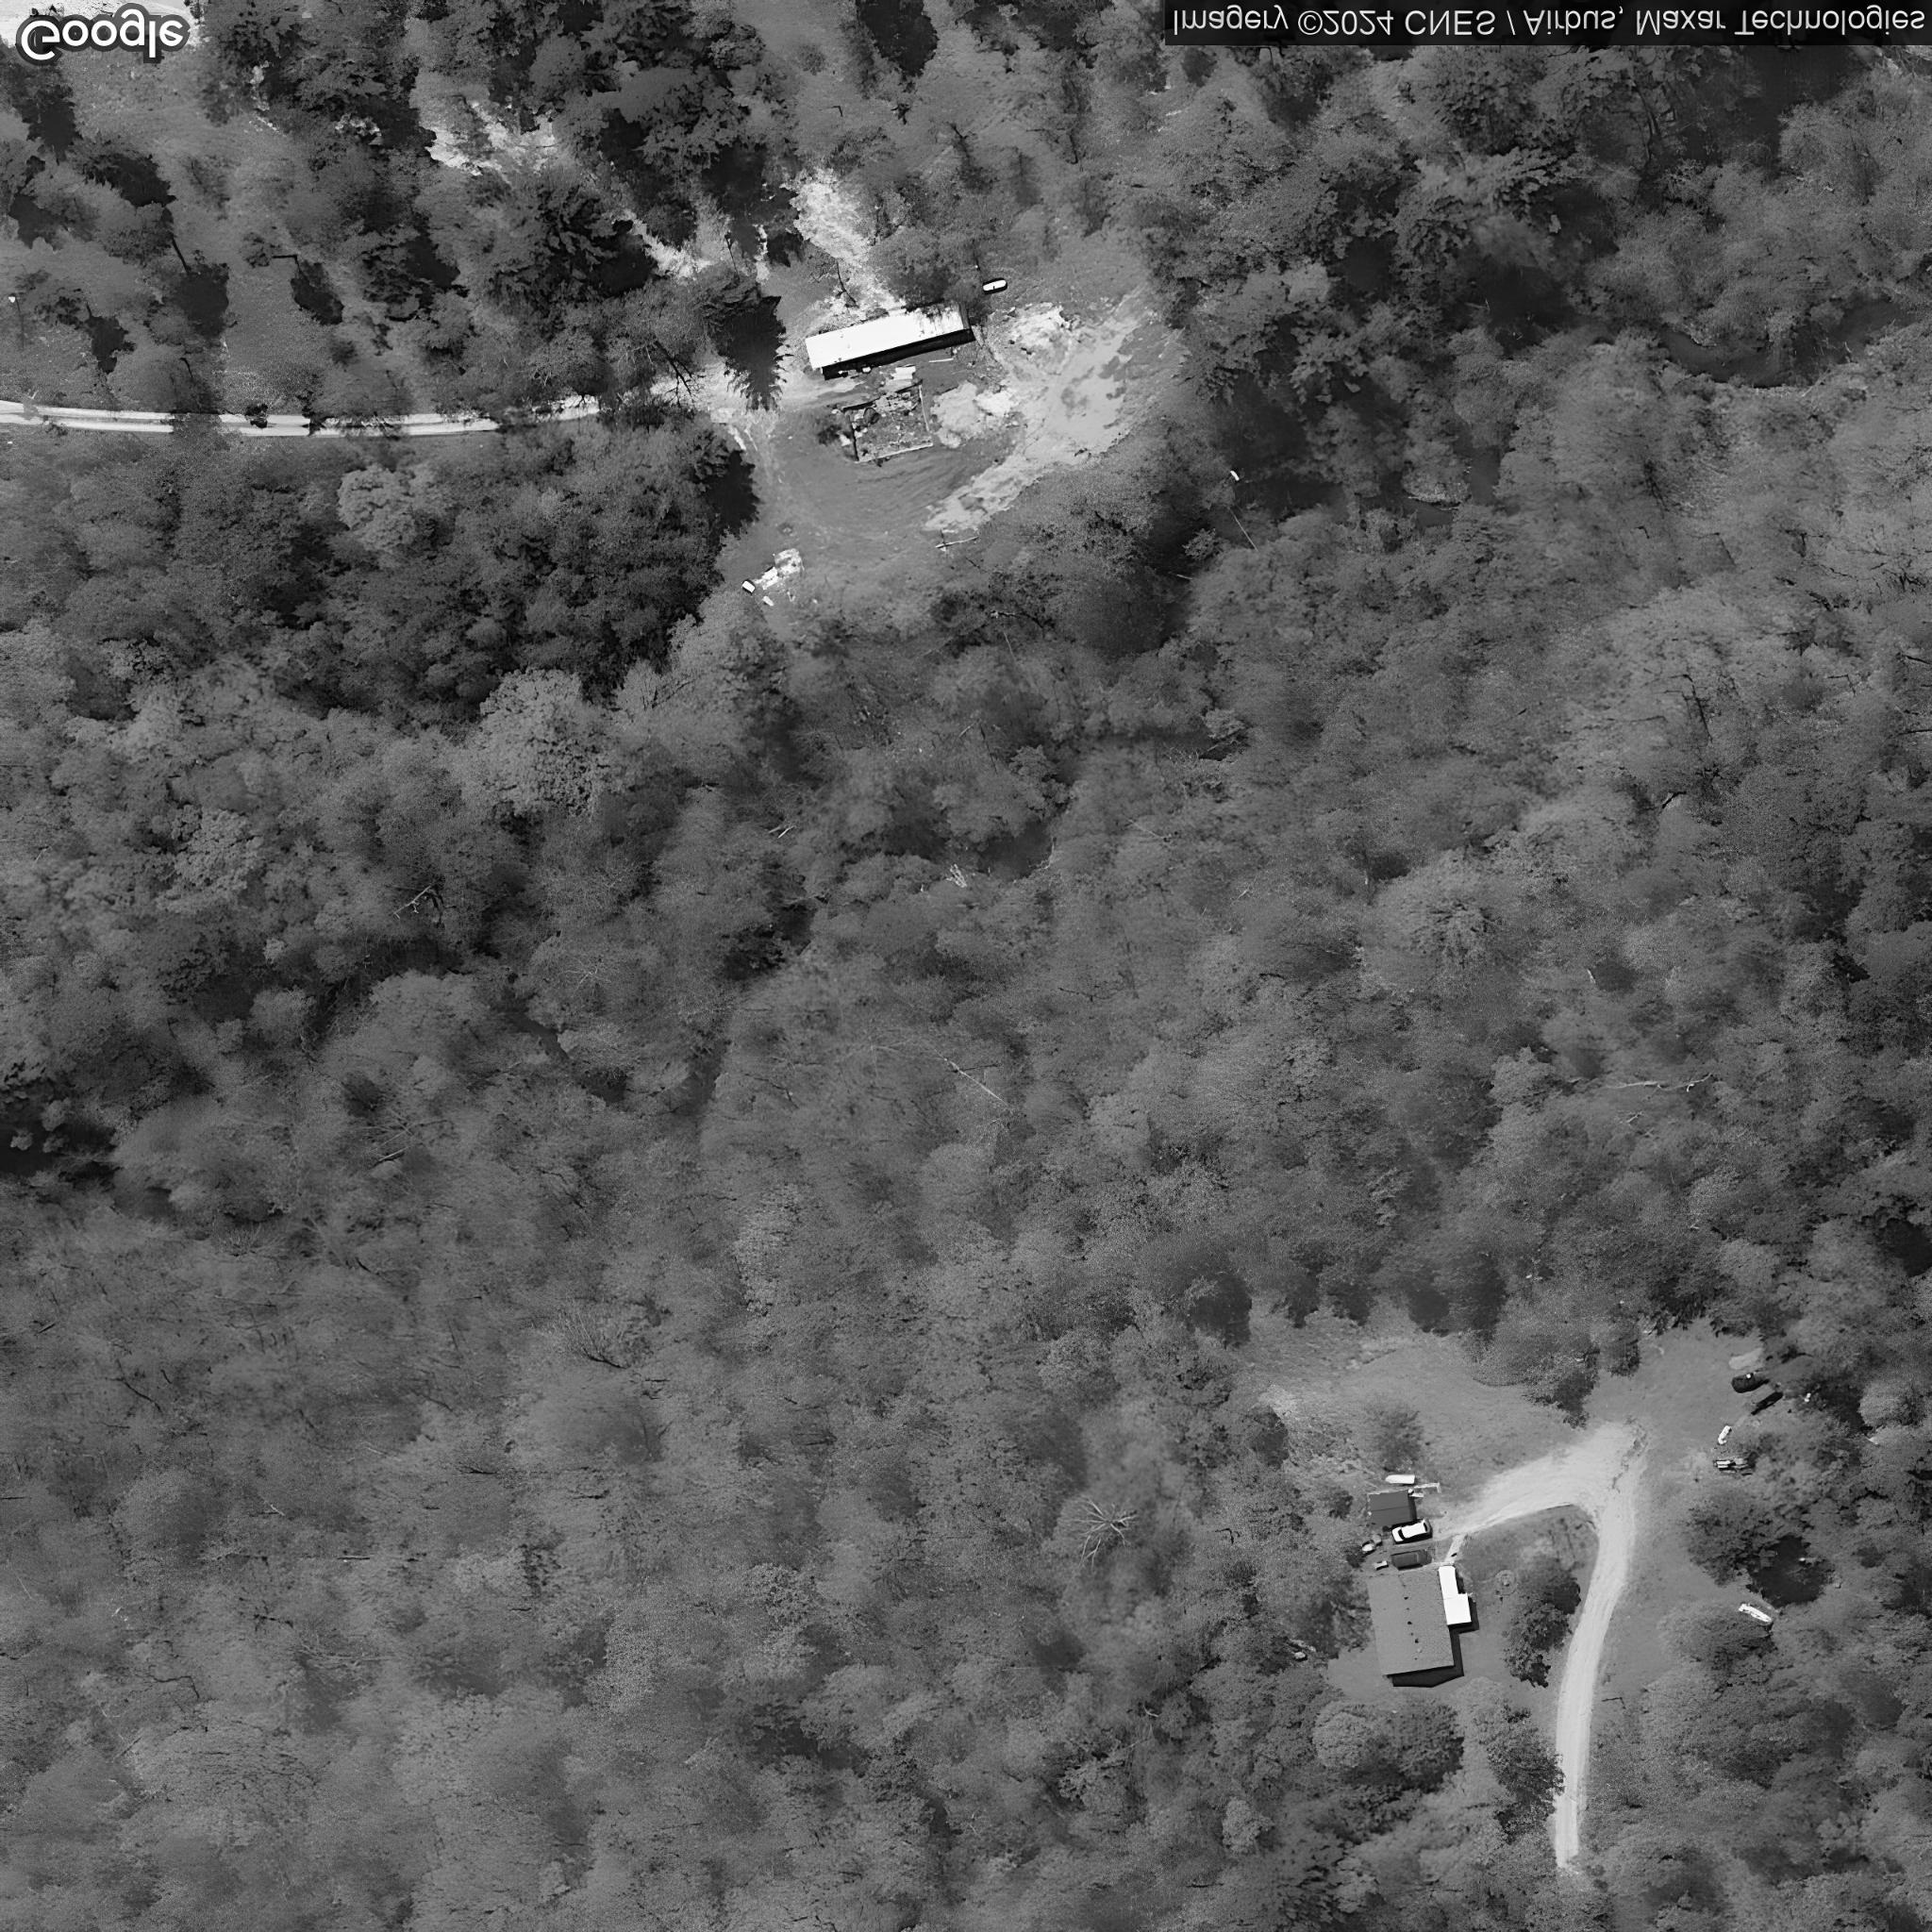House: (1366, 1566, 1454, 1677)
Propane: (978, 274, 1012, 295), (1380, 1468, 1417, 1486)
Trailer: (803, 294, 968, 372)
